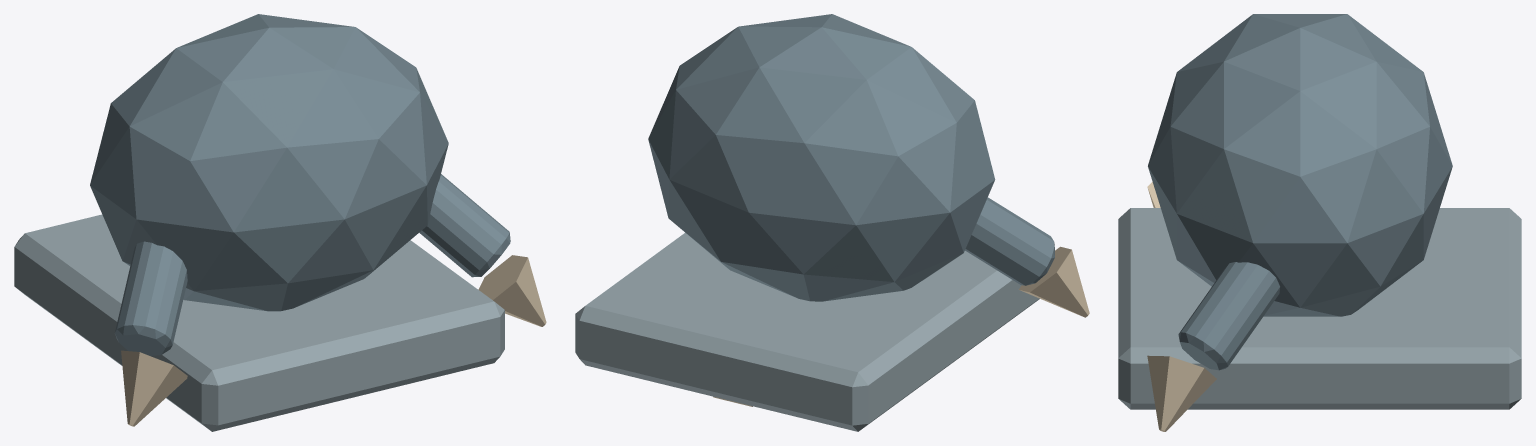
The model's file is Blocker.fbx.
The picture shows the model from 3 angles, left to right: view 1: azimuth 30°, elevation 25°; view 2: azimuth 150°, elevation 25°; view 3: azimuth 270°, elevation 25°; orthographic projection. The views are drawn at different scales.
Visible parts, largest first — view 1: Body, FrontShield, Arm, Arm.001, FootClaw, FootClaw.001; view 2: Body, FrontShield, Arm, FootClaw; view 3: Body, FrontShield, Arm.001, FootClaw.001.
Boxes of the visible parts, bbox=[...] form: Body: bbox=[90, 14, 448, 311]; FrontShield: bbox=[14, 214, 504, 431]; Arm: bbox=[115, 241, 187, 355]; Arm.001: bbox=[419, 174, 510, 277]; FootClaw: bbox=[121, 350, 187, 426]; FootClaw.001: bbox=[478, 255, 546, 326]; Body: bbox=[648, 14, 995, 301]; FrontShield: bbox=[575, 232, 1039, 431]; Arm: bbox=[965, 197, 1054, 285]; FootClaw: bbox=[1018, 246, 1089, 317]; Body: bbox=[1148, 14, 1452, 316]; FrontShield: bbox=[1118, 208, 1521, 409]; Arm.001: bbox=[1178, 262, 1279, 370]; FootClaw.001: bbox=[1147, 355, 1216, 431].
Bounding box in the file's own units: 198 × 146 × 164.
